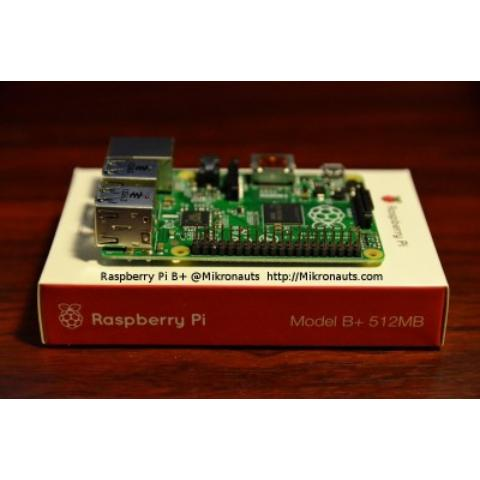Raspberry-Pi-1-Model-B-: (85, 132, 396, 270)
